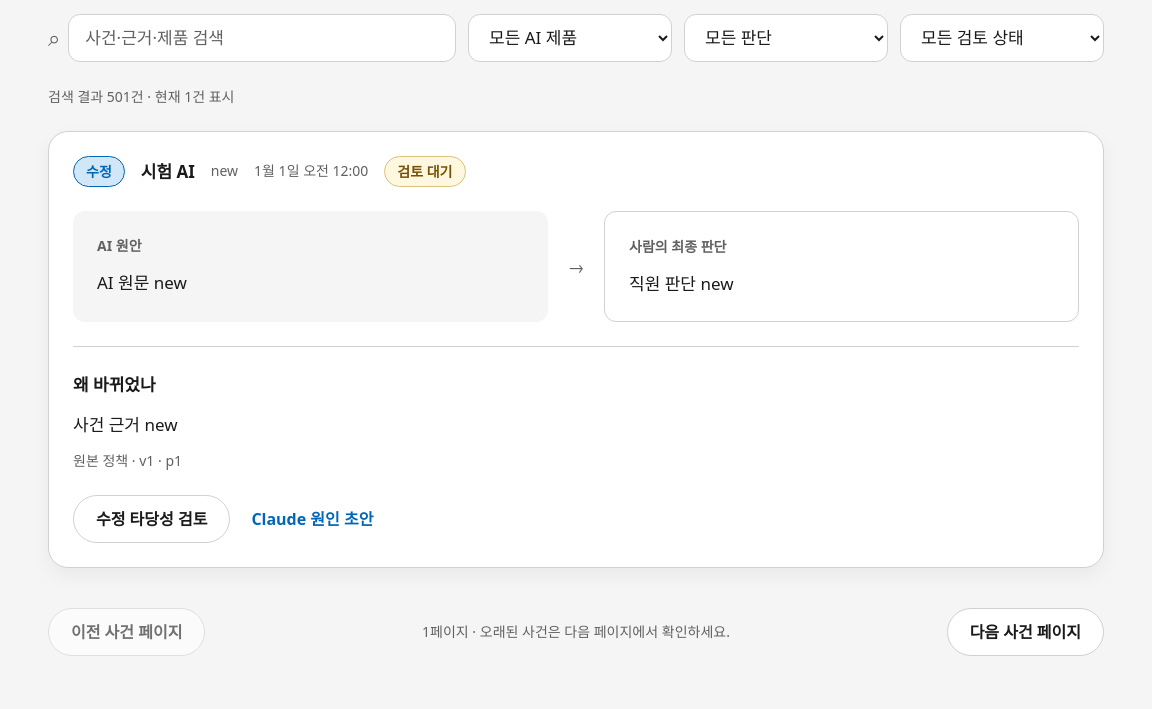
Scenario: does not allow a late old page response to overwrite the current server filter
The width and height of the screenshot is (1152, 709).
(page scrolled)
Click the button "다음 사건 페이지": click(1025, 632) [947, 608, 1104, 656]
(page scrolled)
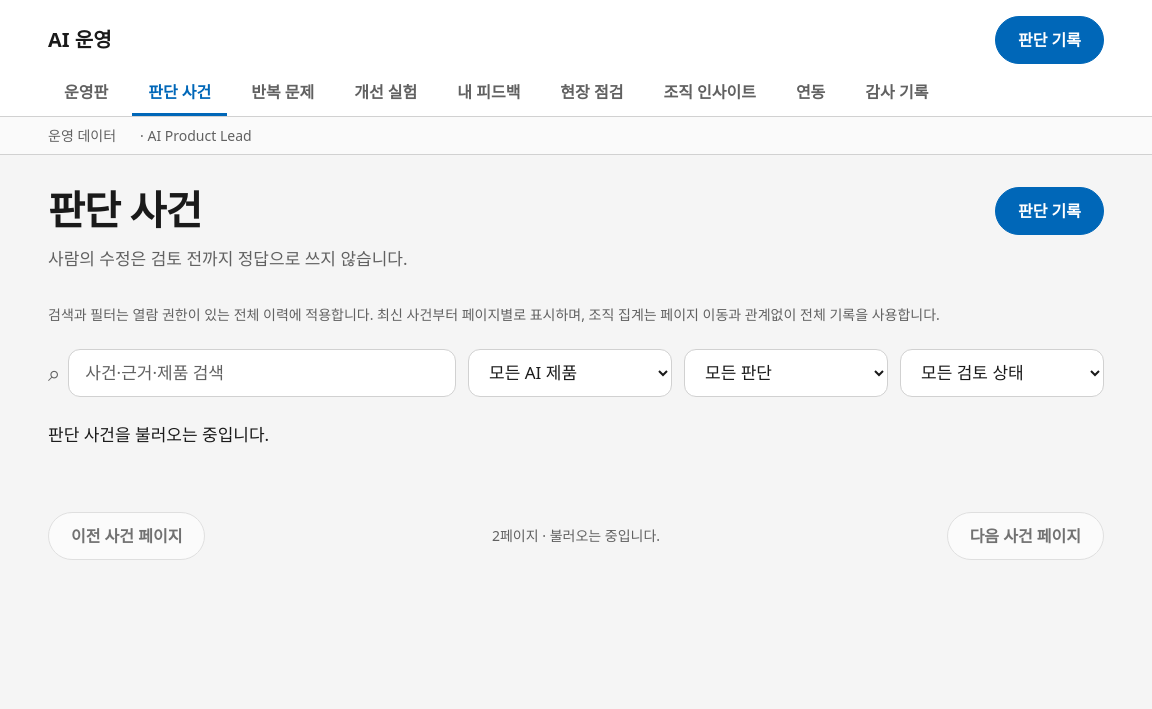
In the field with placeholder "사건·근거·제품 검색": (262, 373) [68, 349, 456, 397], type "filtered"
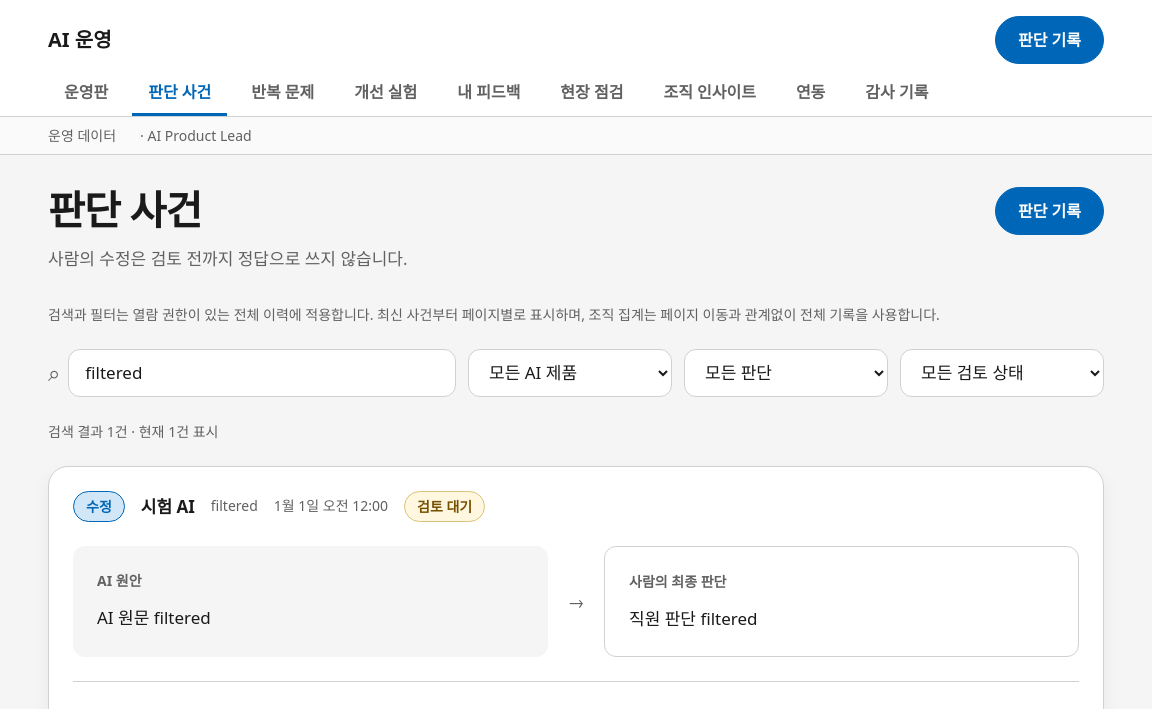
Expected: the text "AI 원문 filtered" is shown, [97, 606, 211, 629]
